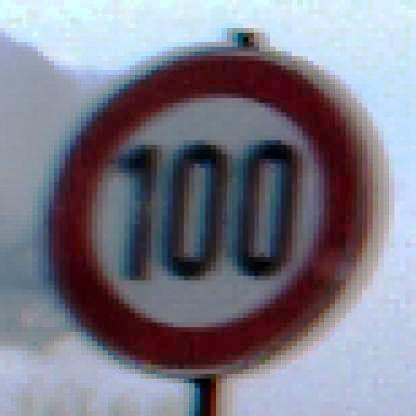Speed Limit -100-: (42, 40, 386, 380)
